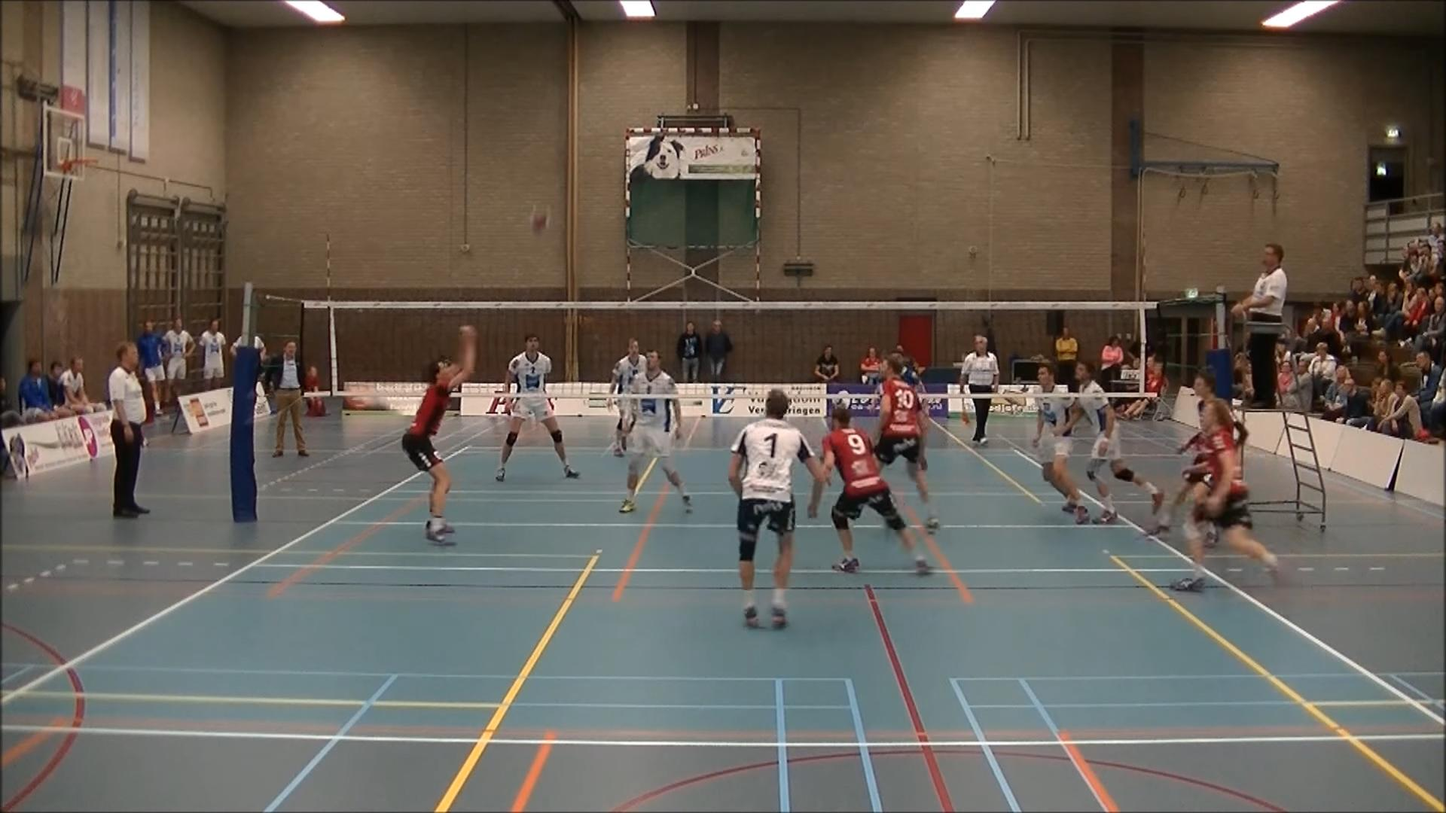alzata: (391, 320, 490, 554)
